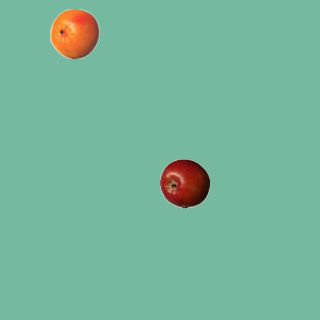Apple Braeburn: (159, 158, 209, 208)
Grapefruit Pink: (49, 8, 99, 58)
